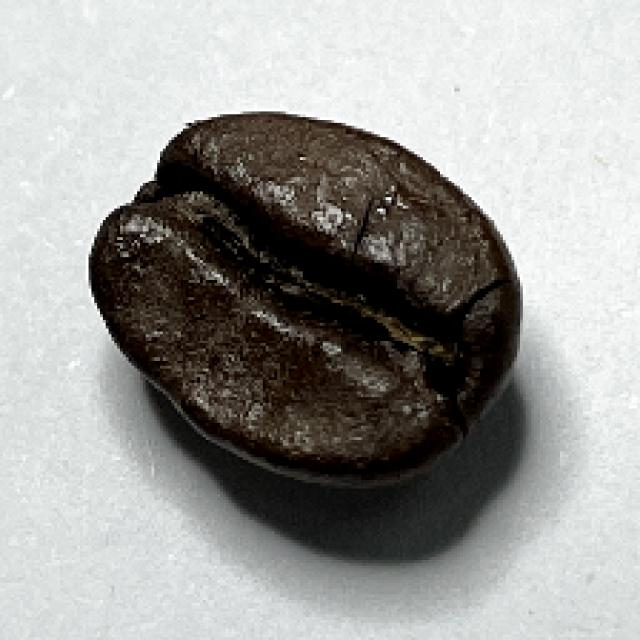bean: (87, 109, 524, 488)
